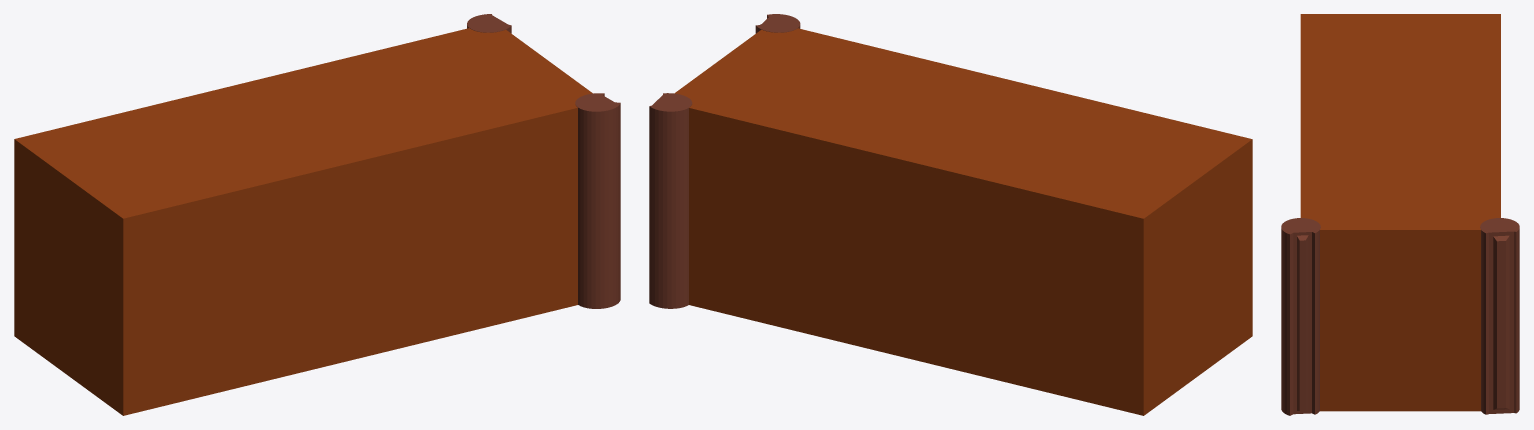
The model's file is woodenwall_library.fbx.
3 views of the same model, side by side, from view 1: azimuth 30°, elevation 25°; view 2: azimuth 150°, elevation 25°; view 3: azimuth 270°, elevation 25° (orthographic). The views are drawn at different scales.
Parts seen in each view (by area): view 1: Library_Wall; view 2: Library_Wall; view 3: Library_Wall.
Part boxes in pixels (x1,y1,x2,y2): Library_Wall: (14, 14, 620, 415); Library_Wall: (649, 14, 1252, 415); Library_Wall: (1281, 14, 1519, 415).
Size of the model in its own units: 523 by 200 by 238.
